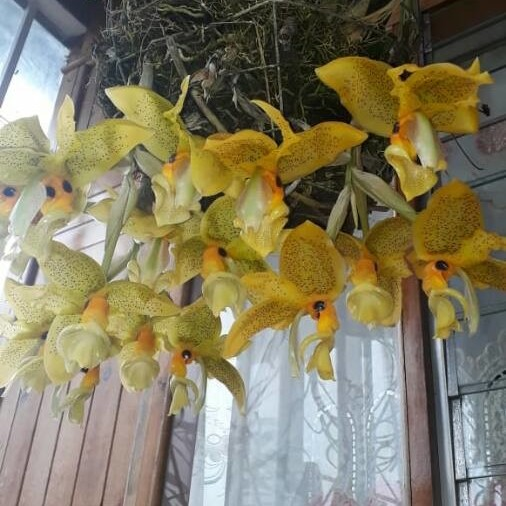obstacle: (29, 76, 480, 368)
